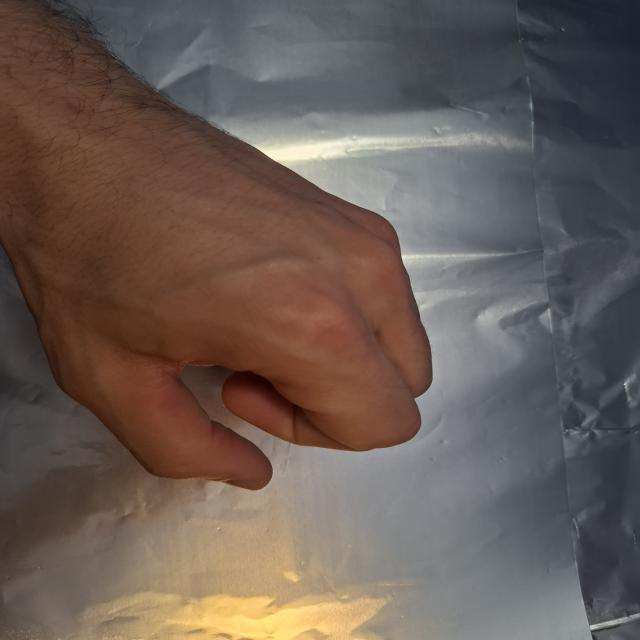glove_off: (18, 116, 436, 492)
